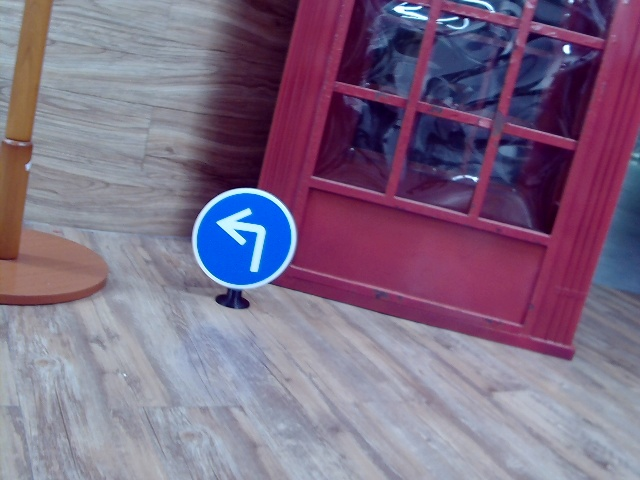turn_left: (217, 205, 269, 276)
